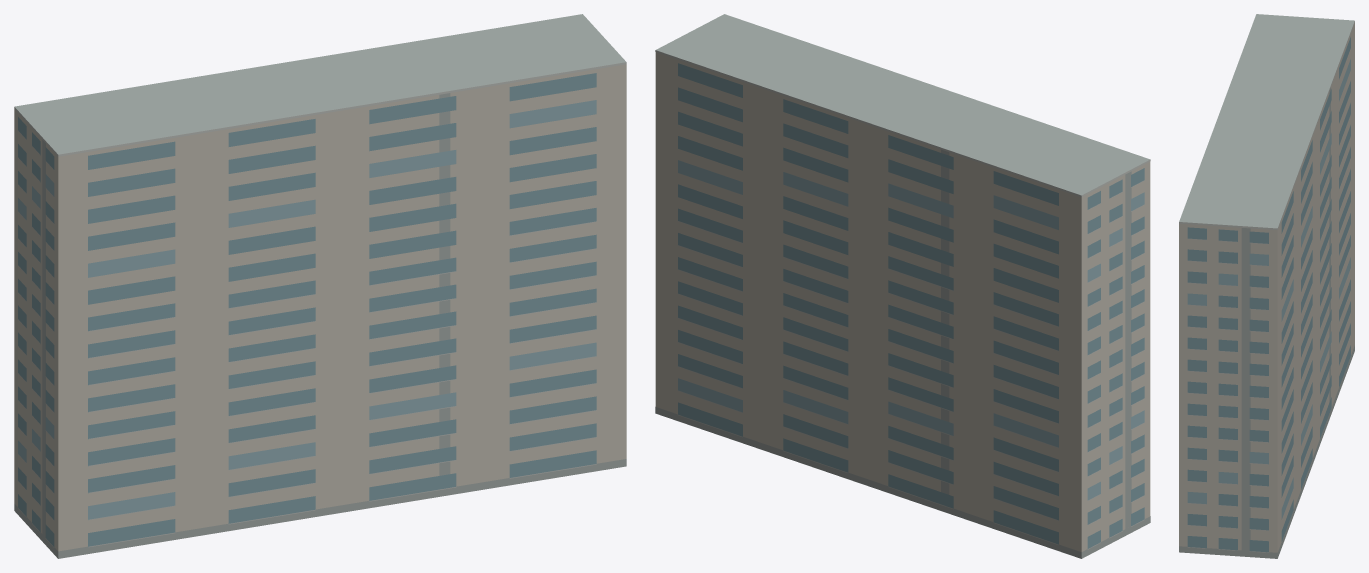
The model's file is residential-5bfb6ed2-ccb6-4905-b54f-652ce399b6c7.glb.
3 renders of one model, left to right at view 1: azimuth 30°, elevation 25°; view 2: azimuth 150°, elevation 25°; view 3: azimuth 270°, elevation 25°, orthographic. The views are drawn at different scales.
Parts seen in each view (by area): view 1: residential-5bfb6ed2-ccb6-4905-b54f-652ce399b6c7.tmp; view 2: residential-5bfb6ed2-ccb6-4905-b54f-652ce399b6c7.tmp; view 3: residential-5bfb6ed2-ccb6-4905-b54f-652ce399b6c7.tmp.
Part boxes in pixels (x1,y1,x2,y2): residential-5bfb6ed2-ccb6-4905-b54f-652ce399b6c7.tmp: (14, 14, 626, 558); residential-5bfb6ed2-ccb6-4905-b54f-652ce399b6c7.tmp: (655, 14, 1150, 558); residential-5bfb6ed2-ccb6-4905-b54f-652ce399b6c7.tmp: (1179, 14, 1354, 558).
Bounding box in the file's own units: 63.67 × 45.75 × 22.08.
